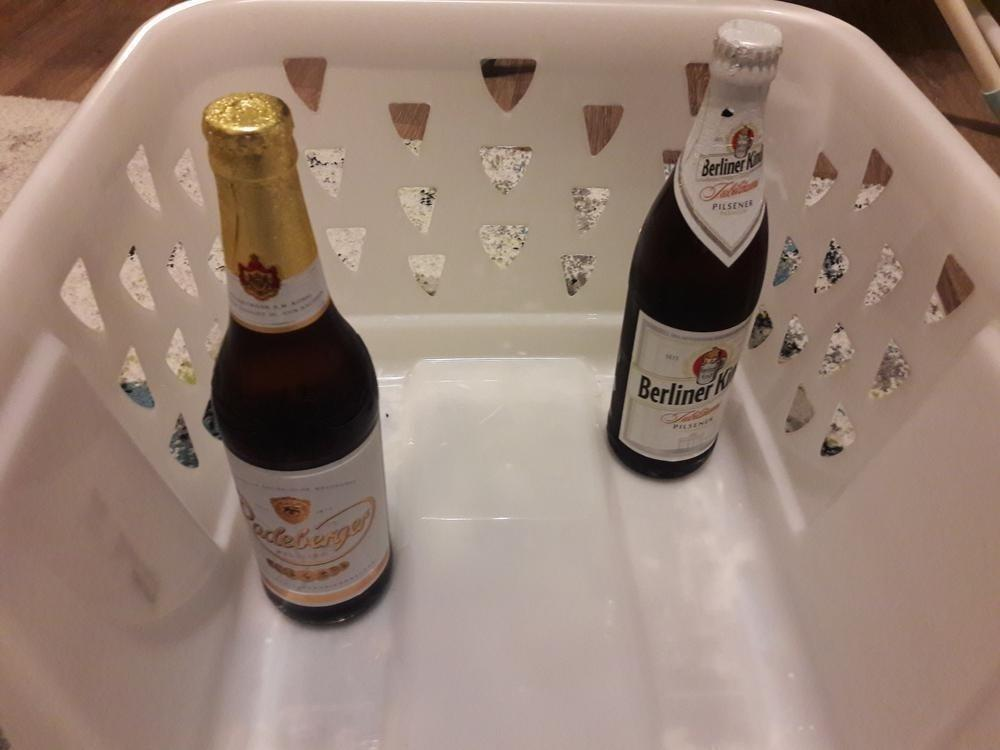bottle-glass: (198, 89, 397, 631), (604, 15, 786, 484)
